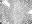person: (3, 0, 9, 9), (26, 10, 31, 14)
